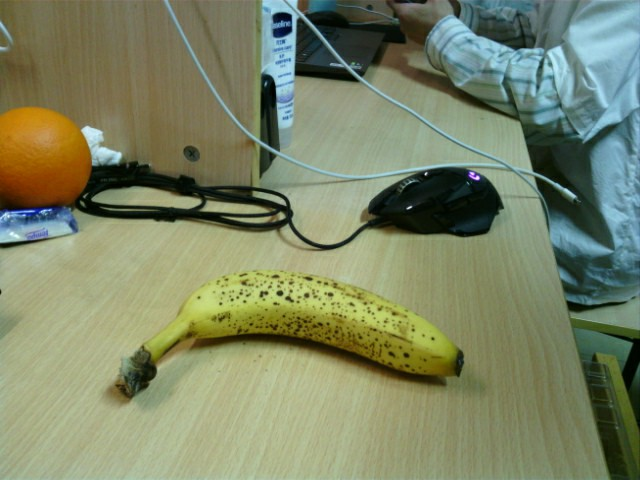normal_banana: (118, 269, 467, 400)
normal_orange: (1, 107, 92, 206)
